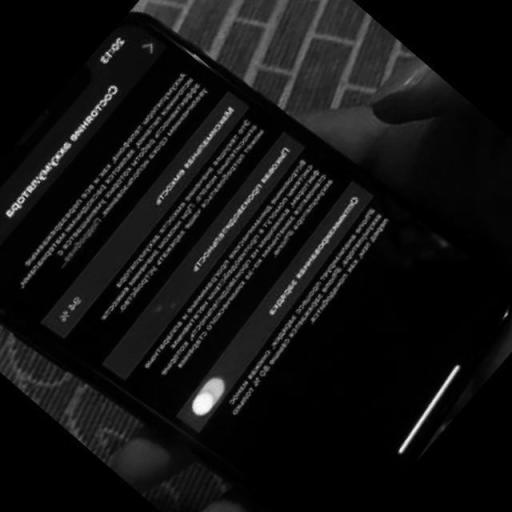phone: (8, 20, 509, 511)
